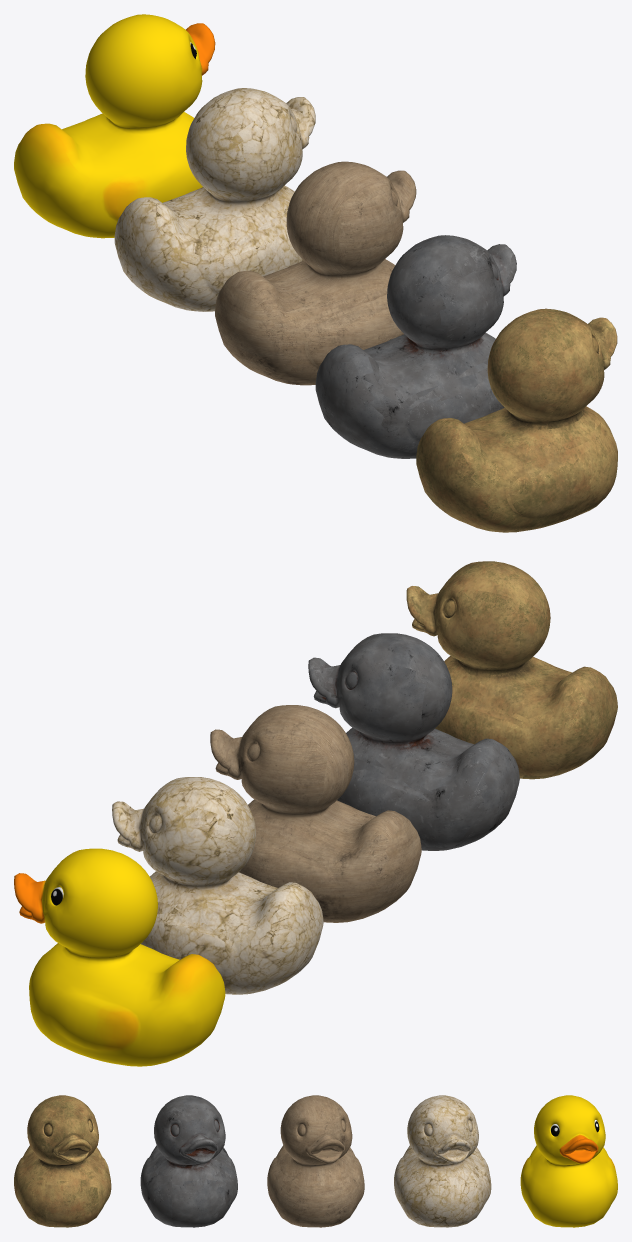
The model's file is MaterialDucks.gltf.
3 renders of one model, top to bottom at view 1: azimuth 30°, elevation 25°; view 2: azimuth 150°, elevation 25°; view 3: azimuth 270°, elevation 25°, orthographic. The views are drawn at different scales.
Visible parts, largest first — view 1: DuckC, DuckE, DuckD, DuckB, DuckA; view 2: DuckA, DuckC, DuckE, DuckB, DuckD; view 3: DuckE, DuckD, DuckA, DuckC, DuckB.
Boxes of the visible parts, x1,y1,x2,y2 form: DuckC: (416,308,617,532); DuckE: (215,161,416,385); DuckD: (315,235,516,458); DuckB: (114,88,315,311); DuckA: (14,14,215,238); DuckA: (14,848,225,1066); DuckC: (406,561,617,779); DuckE: (210,705,421,922); DuckB: (112,777,323,994); DuckD: (308,633,519,850); DuckE: (267,1095,364,1227); DuckD: (140,1095,237,1227); DuckA: (520,1095,617,1227); DuckC: (14,1095,111,1227); DuckB: (394,1095,491,1227).
Size of the model in its own units: 0.6619 by 0.6162 by 2.86.
5 materials, 5 textured.
